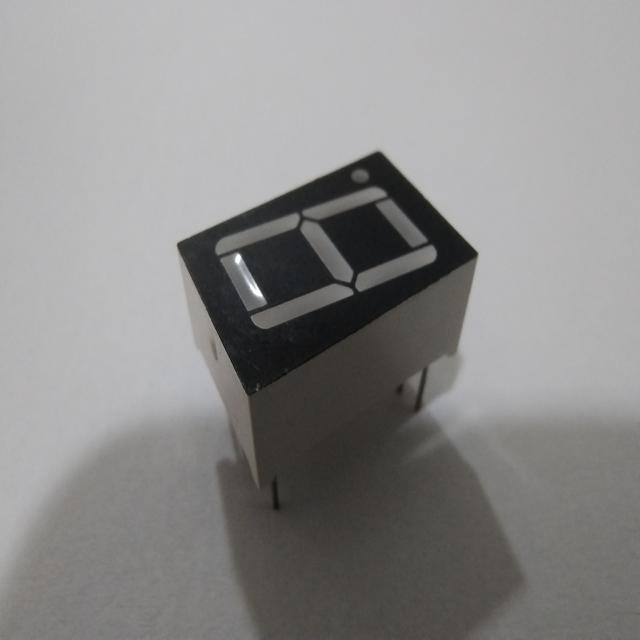7_segments: (170, 142, 483, 521)
